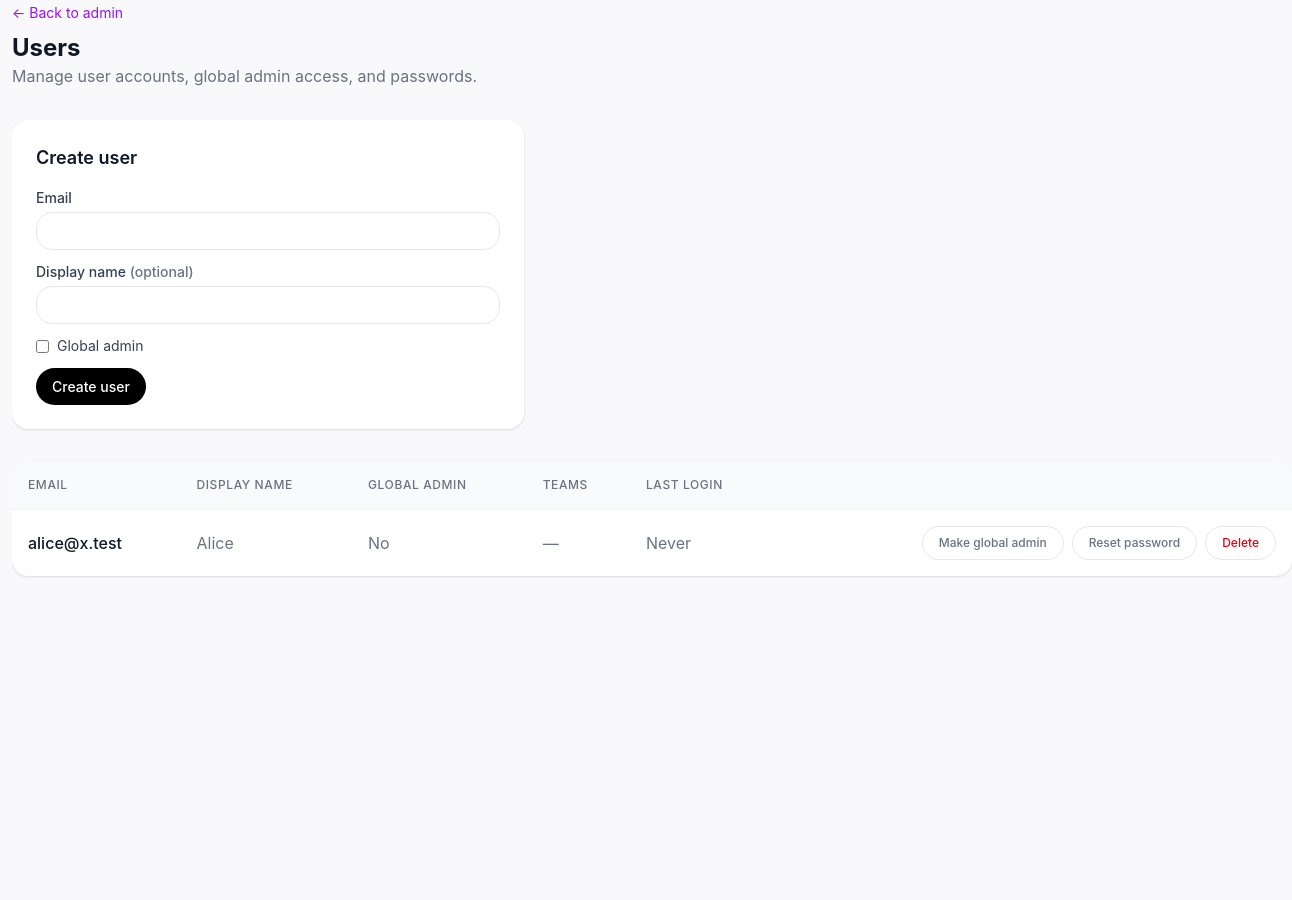
Test: admin users page — delete confirm state machine (findings-r1 I-3) › keeps Confirm delete disabled until the exact email is typed
Step 1. Click the button "Delete" → [1241, 543], box [1205, 526, 1276, 560]
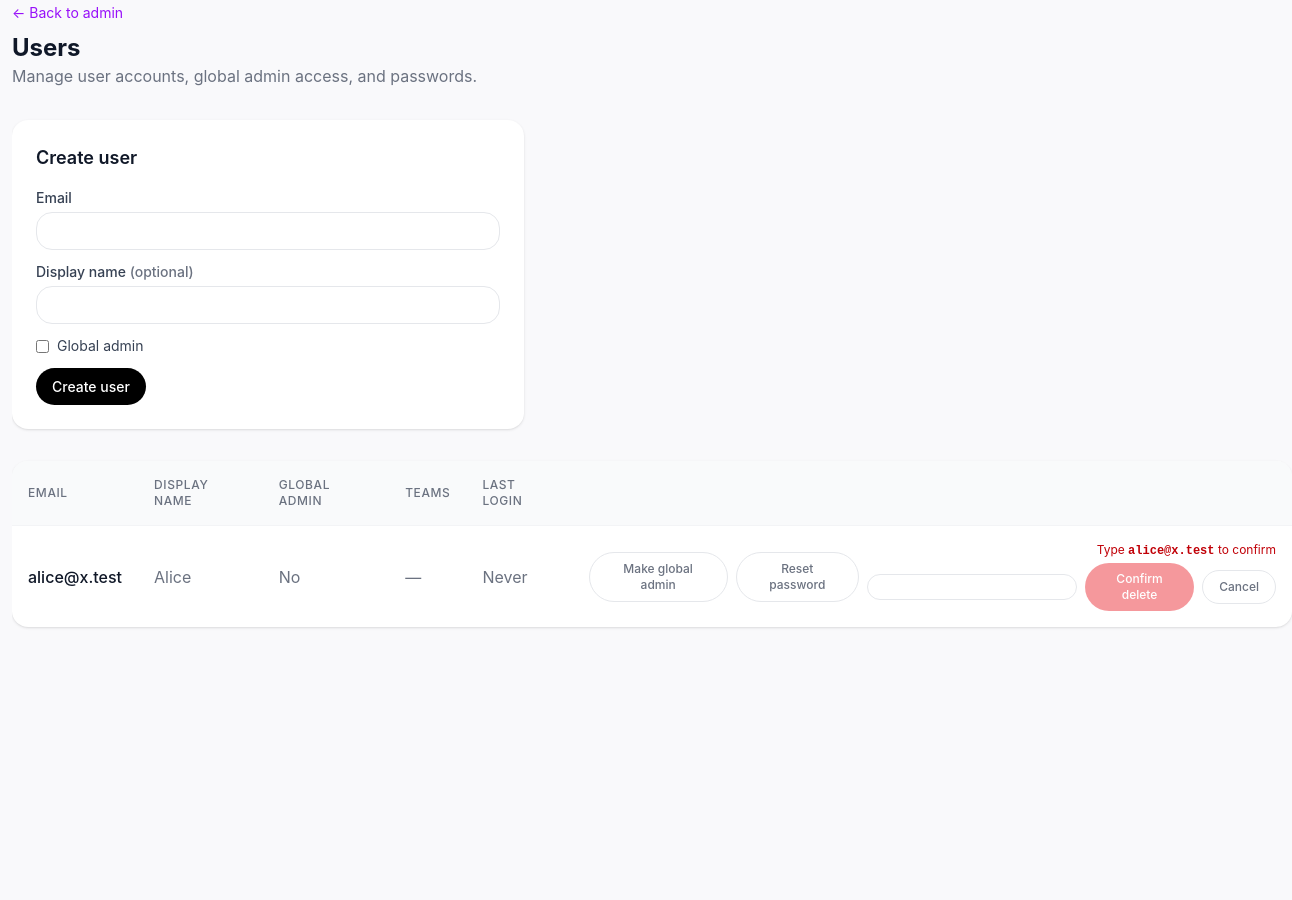
Expected: the button "Confirm delete" is disabled, [1085, 563, 1194, 611]
Step 2. Type "wrong@x.test" into the field named "Type the email to confirm" → [972, 587], box [867, 574, 1077, 600]
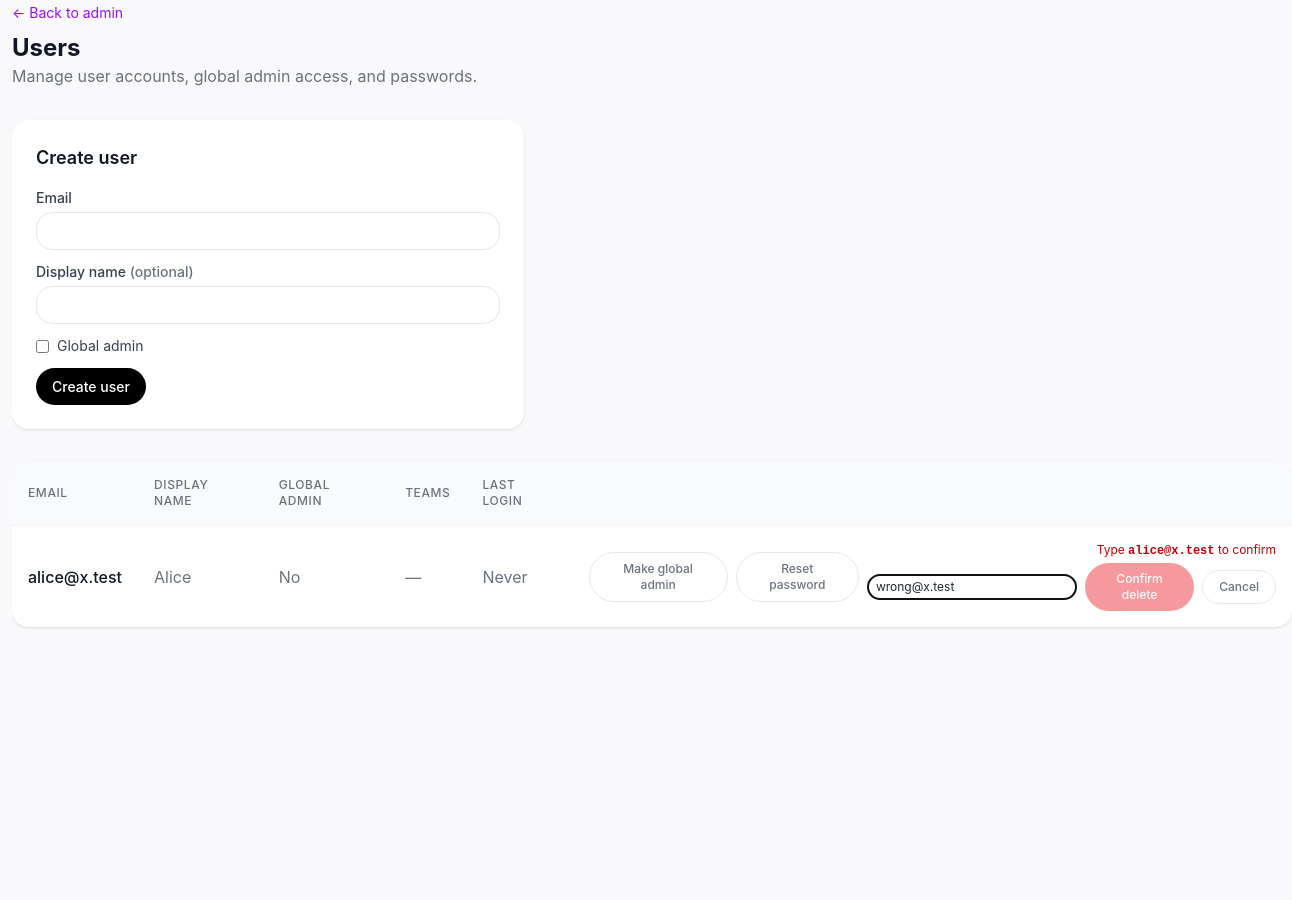
Expected: the button "Confirm delete" is disabled, [1085, 563, 1194, 611]
Step 3. Replace the text in the field named "Type the email to confirm" with "alice@x.test" → [972, 587], box [867, 574, 1077, 600]
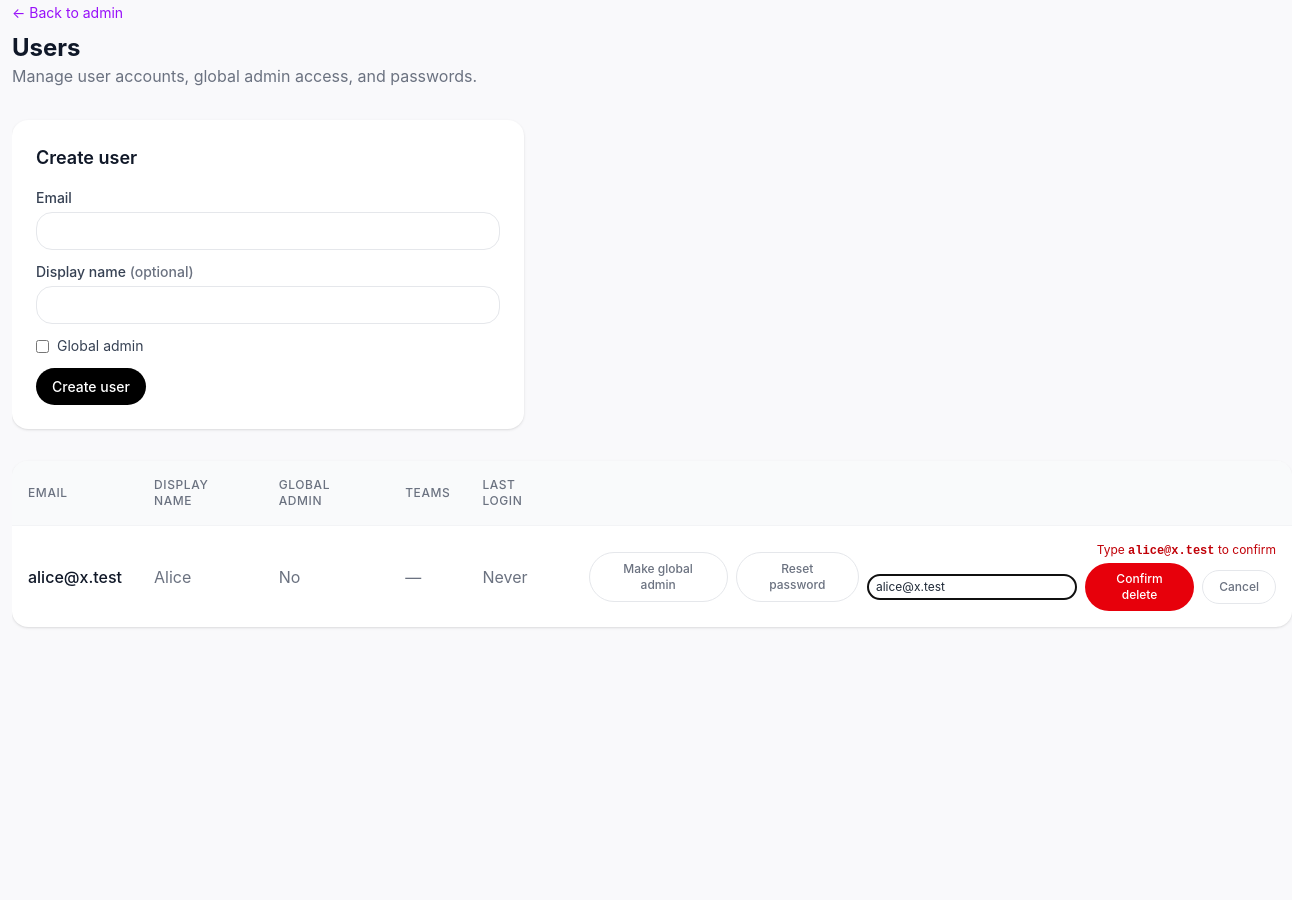
Expected: the button "Confirm delete" is enabled, [1085, 563, 1194, 611]
